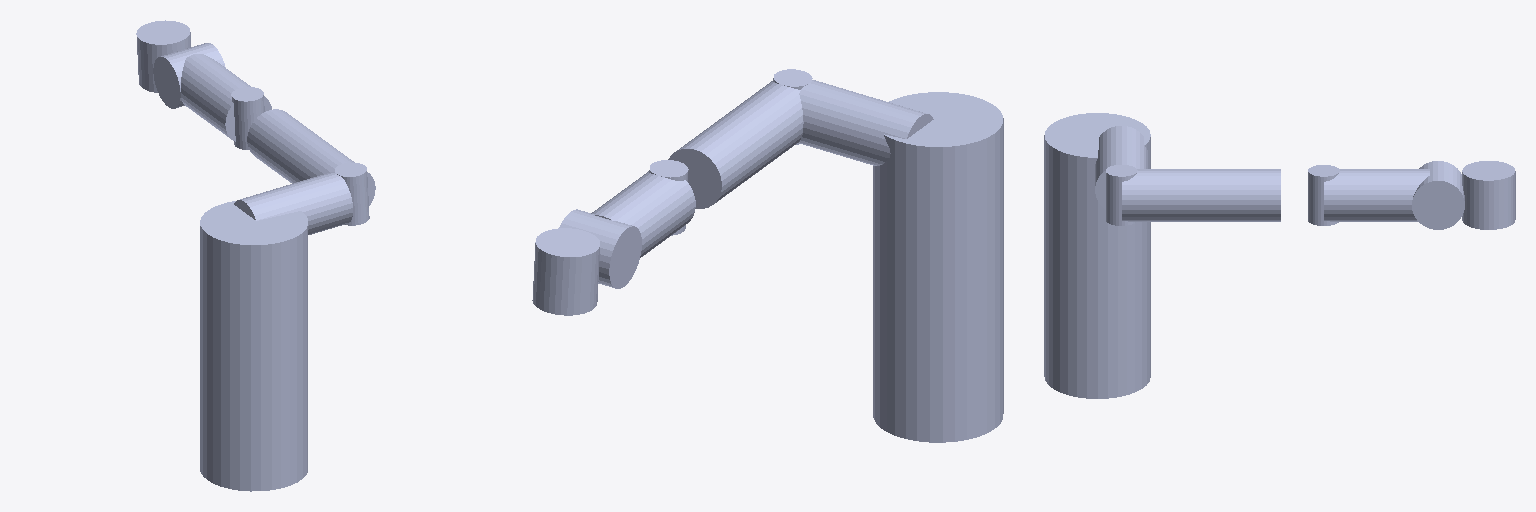
URDF robot description (rightarm):
<?xml version="1.0" encoding="utf-8"?>
<!-- This URDF was automatically created by SolidWorks to URDF Exporter! Originally created by Stephen Brawner (brawner@gmail.com) 
     Commit Version: 1.6.0-1-g15f4949  Build Version: 1.6.7594.29634
     For more information, please see http://wiki.ros.org/sw_urdf_exporter -->
<robot
  name="rightarm">
  <link
    name="base_link">
    <inertial>
      <origin
        xyz="0 0 0"
        rpy="0 0 0" />
      <mass
        value="0.29324" />
      <inertia
        ixx="0.00029756"
        ixy="-6.9587E-20"
        ixz="1.5542E-21"
        iyy="0.0017453"
        iyz="2.2537E-22"
        izz="0.002038" />
    </inertial>
    <visual>
      <origin
        xyz="0 0 0"
        rpy="0 0 0" />
      <geometry>
        <cylinder radius = "0.1" length = "0.5"  />
      </geometry>
      <material
        name="">
        <color
          rgba="0.79216 0.81961 0.93333 1" />
      </material>
    </visual>
  </link>
  <link
    name="rlink1">
    <inertial>
      <origin
        xyz="0.041639 -9.5415E-08 0.078526"
        rpy="0 0 0" />
      <mass
        value="0.24987" />
      <inertia
        ixx="0.0006271"
        ixy="1.91E-10"
        ixz="-0.00020699"
        iyy="0.00072937"
        iyz="-5.8334E-10"
        izz="0.00053567" />
    </inertial>
    <visual>
      <origin
        xyz="0 0 0"
        rpy="0 0 0" />
      <geometry>
        <cylinder radius = "0.05" length = "0.2"  />
      </geometry>
      <material
        name="">
        <color
          rgba="0.79216 0.81961 0.93333 1" />
      </material>
    </visual>
  </link>
  <joint
    name="rjoint1"
    type="revolute">
    <origin
      xyz="0.10762 0.045 0.22804"
      rpy="0 -1.6232 0" />
    <parent
      link="base_link" />
    <child
      link="rlink1" />
    <axis
      xyz="0 0 1" />
    <limit
      lower="0"
      upper="0"
      effort="0"
      velocity="0" />
  </joint>
  <link
    name="rlink2">
    <inertial>
      <origin
        xyz="0 0 0"
        rpy="0 0 0" />
      <mass
        value="0.26286" />
      <inertia
        ixx="0.0021103"
        ixy="-9.1802E-09"
        ixz="-3.0245E-08"
        iyy="0.00073404"
        iyz="-0.00010005"
        izz="0.0021757" />
    </inertial>
    <visual>
      <origin
        xyz="0 0 0"
        rpy="0 0 0" />
      <geometry>
        <cylinder radius = "0.03" length = "0.1"  />
      </geometry>
      <material
        name="">
        <color
          rgba="0.79216 0.81961 0.93333 1" />
      </material>
    </visual>
  </link>
  <joint
    name="rjoint2"
    type="revolute">
    <origin
      xyz="0 0 -0.1265"
      rpy="0 1.57079 0 " />
    <parent
      link="rlink1" />
    <child
      link="rlink2" />
    <axis
      xyz="0 0 1" />
    <limit
      lower="0"
      upper="0"
      effort="0"
      velocity="0" />
  </joint>
  <link
    name="rlink3">
    <inertial>
      <origin
        xyz="4.0057E-08 0.0035526 0.30728"
        rpy="0 0 0" />
      <mass
        value="0.16256" />
      <inertia
        ixx="0.0010114"
        ixy="5.8972E-10"
        ixz="-1.6559E-10"
        iyy="0.0010189"
        iyz="-4.2106E-05"
        izz="0.00031705" />
    </inertial>
    <visual>
      <origin
        xyz="0 0 0.15"
        rpy="0 0 0" />
      <geometry>
        <cylinder radius = "0.05" length = "0.3"  />
      </geometry>
      <material
        name="">
        <color
          rgba="0.79216 0.81961 0.93333 1" />
      </material>
    </visual>
  </link>
  <joint
    name="rjoint3"
    type="revolute">
    <origin
      xyz="0 0 0"
      rpy="-1.5708 0 0" />
    <parent
      link="rlink2" />
    <child
      link="rlink3" />
    <axis
      xyz="0 0 1" />
    <limit
      lower="0"
      upper="0"
      effort="0"
      velocity="0" />
  </joint>
  <link
    name="rlink4">
    <inertial>
      <origin
        xyz="1.1177E-07 -0.074915 0.036559"
        rpy="0 0 0" />
      <mass
        value="0.19929" />
      <inertia
        ixx="0.00072501"
        ixy="2.5788E-10"
        ixz="-9.3888E-11"
        iyy="0.00027207"
        iyz="-0.00017365"
        izz="0.00066506" />
    </inertial>
    <visual>
      <origin
        xyz="0 0 0"
        rpy="0 0 0" />
      <geometry>
        <cylinder radius = "0.03" length = "0.1"  />
      </geometry>
      <material
        name="">
        <color
          rgba="0.79216 0.81961 0.93333 1" />
      </material>
    </visual>
  </link>
  <joint
    name="rjoint4"
    type="revolute">
    <origin
      xyz="0 0 0.38"
      rpy="1.5708 0 0" />
    <parent
      link="rlink3" />
    <child
      link="rlink4" />
    <axis
      xyz="0 0 1" />
    <limit
      lower="0"
      upper="0"
      effort="0"
      velocity="0" />
  </joint>
  <link
    name="rlink5">
    <inertial>
      <origin
        xyz="2.1676E-06 0.0070445 0.19825"
        rpy="0 0 0" />
      <mass
        value="0.066574" />
      <inertia
        ixx="0.00013147"
        ixy="-2.7479E-09"
        ixz="1.8702E-09"
        iyy="0.00013187"
        iyz="-7.9202E-06"
        izz="0.0001047" />
    </inertial>
    <visual>
      <origin
        xyz="0 0 -0.1"
        rpy="0 0 0" />
      <geometry>
        <cylinder radius = "0.05" length = "0.2"  />
      </geometry>
      <material
        name="">
        <color
          rgba="0.79216 0.81961 0.93333 1" />
      </material>
    </visual>
  </link>
  <joint
    name="rjoint5"
    type="revolute">
    <origin
      xyz="0 0 0"
      rpy="1.5708 0 0" />
    <parent
      link="rlink4" />
    <child
      link="rlink5" />
    <axis
      xyz="0 0 1" />
    <limit
      lower="0"
      upper="0"
      effort="0"
      velocity="0" />
  </joint>
  <link
    name="rlink6">
    <inertial>
      <origin
        xyz="-0.0039441 -0.068911 0.030139"
        rpy="0 0 0" />
      <mass
        value="0.10811" />
      <inertia
        ixx="0.00019728"
        ixy="6.4772E-12"
        ixz="-3.1094E-06"
        iyy="0.00010812"
        iyz="-9.3227E-07"
        izz="0.00020592" />
    </inertial>
    <visual>
      <origin
        xyz="0 0 0"
        rpy="0 0 0" />
      <geometry>
        <cylinder radius = "0.05" length = "0.1"  />
      </geometry>
      <material
        name="">
        <color
          rgba="0.79216 0.81961 0.93333 1" />
      </material>
    </visual>
  </link>
  <joint
    name="rjoint6"
    type="revolute">
    <origin
      xyz="0 0 -0.215"
      rpy="0 1.5708 0" />
    <parent
      link="rlink5" />
    <child
      link="rlink6" />
    <axis
      xyz="0 0 1" />
    <limit
      lower="0"
      upper="0"
      effort="0"
      velocity="0" />
  </joint>
  <link
    name="rlink7">
    <inertial>
      <origin
        xyz="3.1729E-09 -0.028673 0.033919"
        rpy="0 0 0" />
      <mass
        value="0.044605" />
      <inertia
        ixx="5.762E-05"
        ixy="6.3373E-12"
        ixz="2.7464E-12"
        iyy="3.3691E-05"
        iyz="-1.6616E-05"
        izz="5.028E-05" />
    </inertial>
    <visual>
      <origin
        xyz="0 0 0"
        rpy="0 0 0" />
      <geometry>
        <cylinder radius = "0.05" length = "0.1"  />
      </geometry>
      <material
        name="">
        <color
          rgba="0.79216 0.81961 0.93333 1" />
      </material>
    </visual>
  </link>
  <joint
    name="rjoint7"
    type="revolute">
    <origin
      xyz="0.095 0 0"
      rpy="0 -1.5708 -1.5708" />
    <parent
      link="rlink6" />
    <child
      link="rlink7" />
    <axis
      xyz="0 0 1" />
    <limit
      lower="0"
      upper="0"
      effort="0"
      velocity="0" />
  </joint>
</robot>

--- Facts derived from the render (not from the file) ---
3 views of the same robot in one strip: view 1: azimuth 30°, elevation 25°; view 2: azimuth 150°, elevation 25°; view 3: azimuth 270°, elevation 25° (orthographic).
Model rightarm with 8 links and 7 joints (7 revolute), rooted at base_link, posed all joints at 0.
Links seen in each view (by area): view 1: base_link, rlink3, rlink1, rlink5, rlink7, rlink6, rlink4, rlink2; view 2: base_link, rlink3, rlink1, rlink7, rlink5, rlink6, rlink4, rlink2; view 3: base_link, rlink3, rlink5, rlink7, rlink6, rlink1, rlink4, rlink2.
Boxes of the visible links, box(x1,y1,x2,y2) form: base_link: box(200, 201, 307, 491); rlink3: box(247, 109, 375, 205); rlink1: box(234, 172, 352, 234); rlink5: box(181, 54, 271, 141); rlink7: box(136, 20, 190, 92); rlink6: box(153, 43, 225, 108); rlink4: box(231, 87, 264, 149); rlink2: box(335, 163, 369, 225); base_link: box(873, 92, 1003, 442); rlink3: box(668, 81, 803, 208); rlink1: box(799, 80, 933, 165); rlink7: box(532, 228, 599, 315); rlink5: box(591, 171, 695, 257); rlink6: box(559, 209, 641, 288); rlink4: box(649, 160, 688, 235); rlink2: box(773, 69, 812, 144); base_link: box(1044, 113, 1150, 398); rlink3: box(1122, 169, 1280, 221); rlink5: box(1324, 169, 1429, 221); rlink7: box(1462, 161, 1515, 229); rlink6: box(1412, 161, 1464, 229); rlink1: box(1095, 126, 1147, 209); rlink4: box(1308, 165, 1339, 225); rlink2: box(1106, 165, 1137, 225).
Size in the robot's own frame: 0.3865 by 0.885 by 0.5372 metres.
Geometry: primitives only (box / cylinder / sphere), no mesh files.
